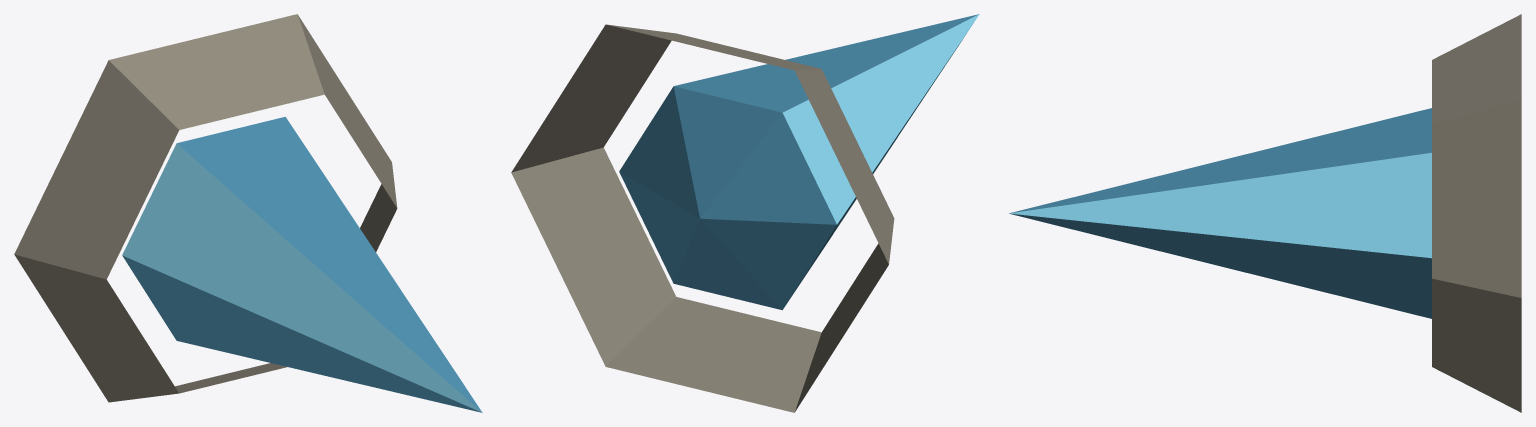
The model's file is crystal_b.obj.
The picture shows the model from 3 angles, left to right: view 1: azimuth 30°, elevation 25°; view 2: azimuth 150°, elevation 25°; view 3: azimuth 270°, elevation 25°; orthographic projection. The views are drawn at different scales.
Visible parts, largest first — view 1: crystal_b; view 2: crystal_b; view 3: crystal_b.
Boxes of the visible parts, <box> form: crystal_b: <box>14,14,482,412</box>; crystal_b: <box>511,14,979,412</box>; crystal_b: <box>1008,14,1521,412</box>.
Bounding box in the file's own units: 1.56 × 1.35 × 2.
